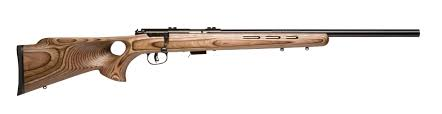Arma Real: (15, 25, 421, 95)
